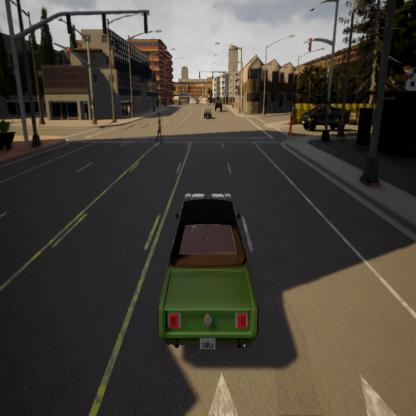Cars: (157, 191, 260, 359), (302, 102, 350, 138), (202, 106, 214, 121)
Pedestrian: (155, 111, 163, 143), (288, 108, 294, 140)
